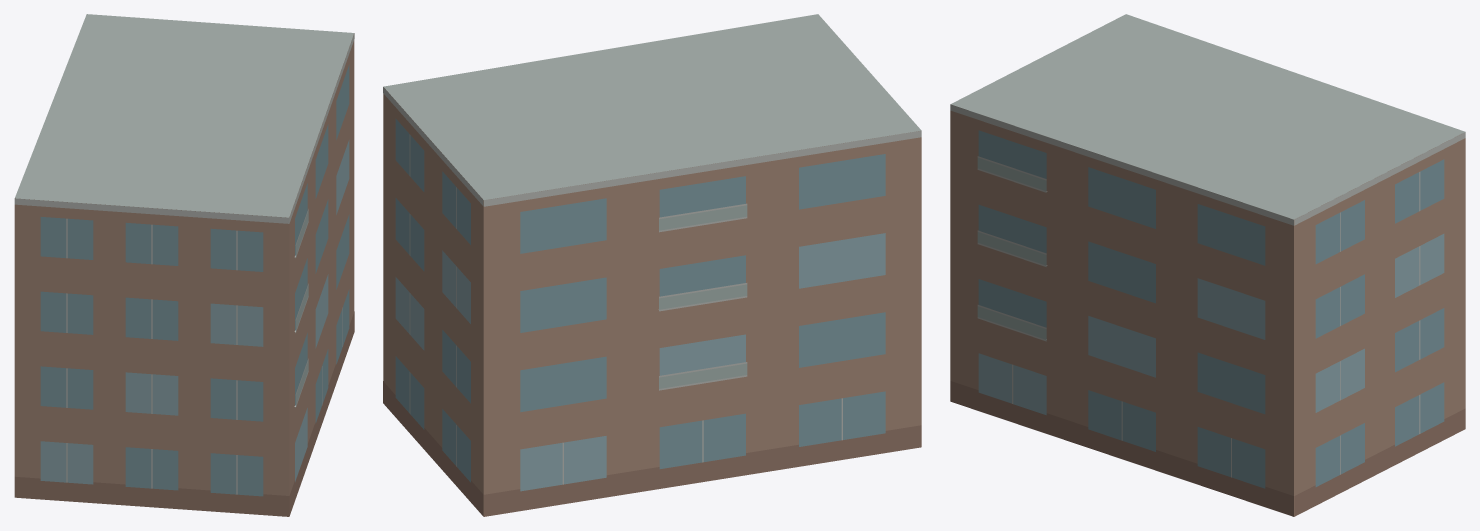
File: survey-upis-32708747.glb
The picture shows the model from 3 angles, left to right: view 1: azimuth 30°, elevation 25°; view 2: azimuth 150°, elevation 25°; view 3: azimuth 270°, elevation 25°; orthographic projection. The views are drawn at different scales.
Parts seen in each view (by area): view 1: survey-upis-32708747.tmp; view 2: survey-upis-32708747.tmp; view 3: survey-upis-32708747.tmp.
Part boxes in pixels (x1,y1,x2,y2): survey-upis-32708747.tmp: [14, 14, 354, 516]; survey-upis-32708747.tmp: [383, 14, 921, 516]; survey-upis-32708747.tmp: [950, 14, 1465, 516].
Size of the model in its own units: 17.37 by 11.7 by 18.39.
